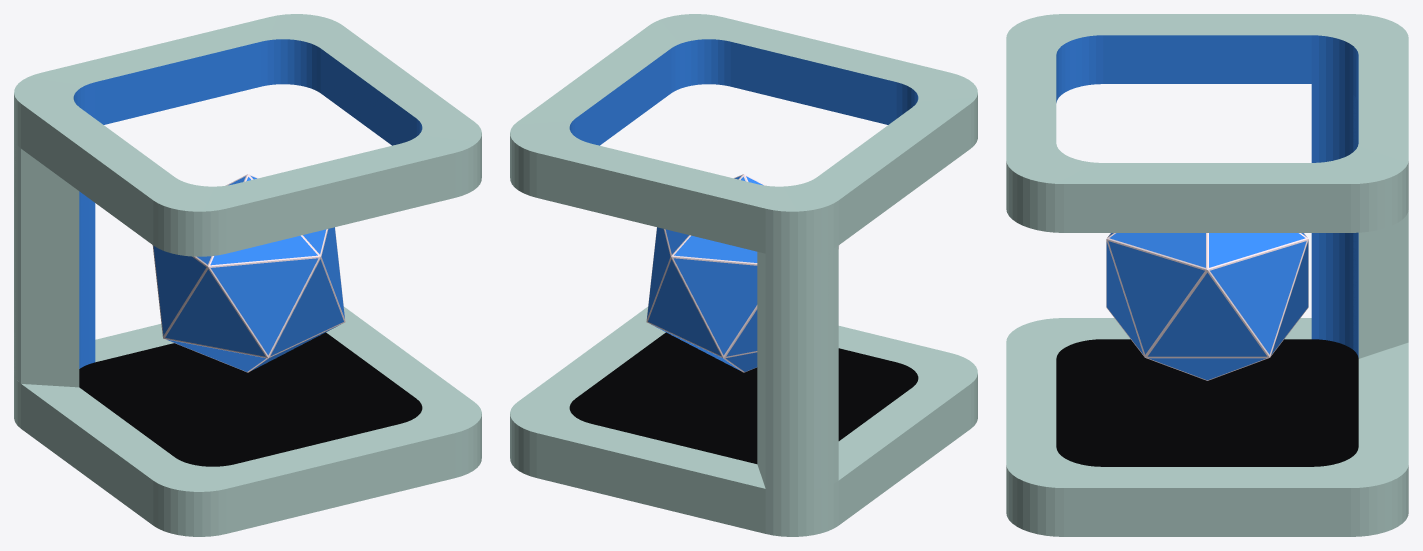
File: nuppgin2.glb
3 renders of one model, left to right at view 1: azimuth 30°, elevation 25°; view 2: azimuth 150°, elevation 25°; view 3: azimuth 270°, elevation 25°, orthographic. The views are drawn at different scales.
Visible parts, largest first — view 1: Cube.002, Icosphere; view 2: Cube.002, Icosphere; view 3: Cube.002, Icosphere.
Part boxes in pixels (x1,y1,x2,y2): Cube.002: (14, 14, 481, 536); Icosphere: (152, 174, 345, 372); Cube.002: (510, 14, 977, 536); Icosphere: (646, 174, 839, 372); Cube.002: (1006, 14, 1408, 536); Icosphere: (1106, 233, 1308, 380).
Bounding box in the file's own units: 1.54 × 1.49 × 1.54.
